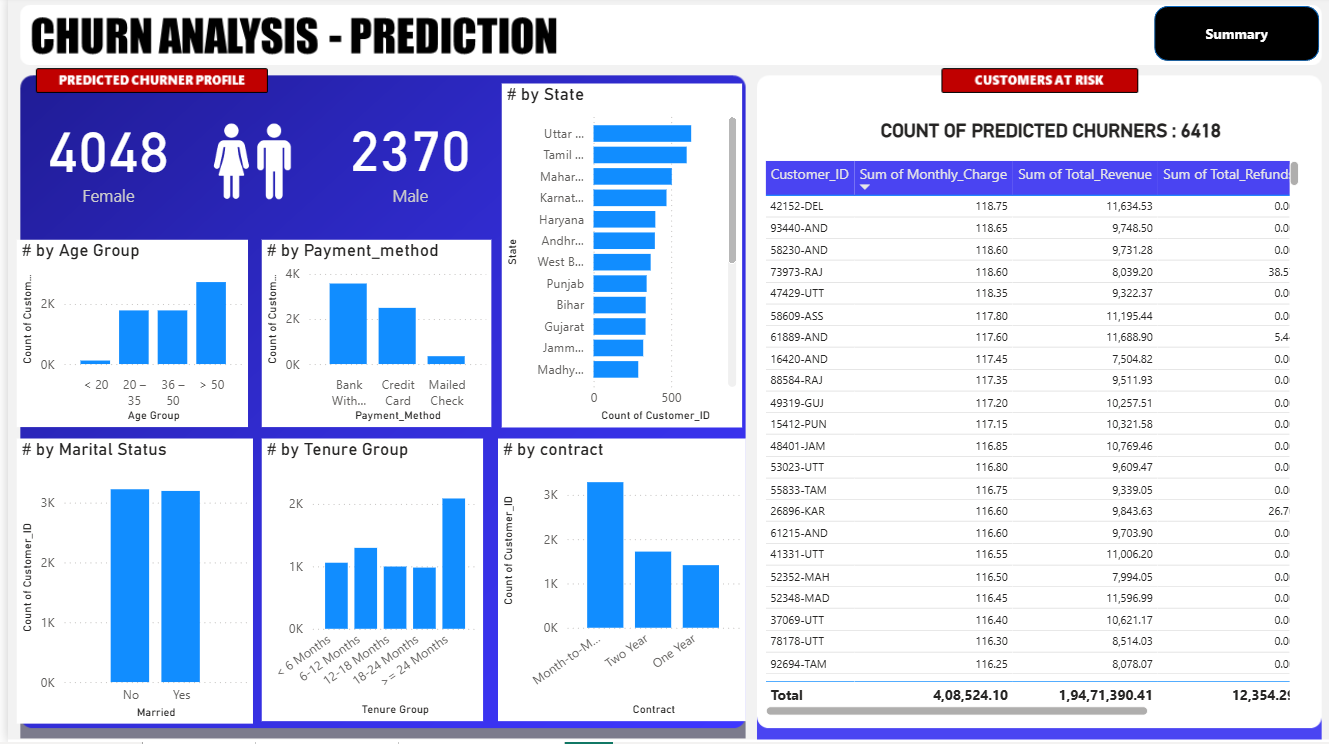

What the dashboard file says about the page in this screenshot:
{"tool":"powerbi","page":{"name":"Churn Prediction","canvas":[1280,720],"ordinal":2},"visuals":[{"type":"tableEx","fields":{"Values":["Final Prediction.Customer_ID","Sum(Final Prediction.Monthly_Charge)","Sum(Final Prediction.Total_Revenue)","Sum(Final Prediction.Total_Refunds)","Sum(Final Prediction.Number_of_Referrals)"]},"box":[725.1,154.4,526,545.3],"z":0},{"type":"card","fields":{"Values":["tbl_measures.Title Predicted Churners"]},"box":[827.6,106.2,358.3,48.3],"z":1},{"type":"card","fields":{"Values":["tbl_measures.Count Predicted Churner"]},"box":[22.9,89.3,148.4,130.3],"z":2},{"type":"card","fields":{"Values":["tbl_measures.Count Predicted Churner"]},"box":[310.1,89.3,156.8,129.1],"z":3},{"type":"clusteredColumnChart","title":"# by Age Group","fields":{"Category":["Mapping_AgeGrp.Age Group"],"Y":["CountNonNull(Final Prediction.Customer_ID)"]},"box":[8.4,235.3,223.2,181],"z":5},{"type":"clusteredColumnChart","title":"# by Marital Status","fields":{"Category":["Final Prediction.Married"],"Y":["CountNonNull(Final Prediction.Customer_ID)"]},"box":[8.4,427.1,228,275.1],"z":6},{"type":"clusteredColumnChart","title":"# by Tenure Group","fields":{"Category":["Mapping_TenGrp.Tenure Group"],"Y":["CountNonNull(Final Prediction.Customer_ID)"]},"box":[244.9,427.1,213.5,272.7],"z":7},{"type":"clusteredColumnChart","title":"# by Payment_method","fields":{"Category":["Final Prediction.Payment_Method"],"Y":["CountNonNull(Final Prediction.Customer_ID)"]},"box":[244.9,235.3,222,181],"z":8},{"type":"clusteredColumnChart","title":"# by contract","fields":{"Category":["Final Prediction.Contract"],"Y":["CountNonNull(Final Prediction.Customer_ID)"]},"box":[472.9,427.1,238.9,272.7],"z":9},{"type":"clusteredBarChart","title":"# by State","fields":{"Category":["Final Prediction.State"],"Y":["CountNonNull(Final Prediction.Customer_ID)"]},"box":[476.5,84.5,231.6,331.8],"z":10},{"type":"image","box":[184.6,106.2,102.5,105],"z":11},{"type":"shape","box":[1106.3,9.7,159.3,53.1],"z":12}]}

Visuals, with their boxes in screenshot pixels (x1, y1, x2, y2), scaled from the page's 1280x720 canvas onto the 1329x744 screenshot:
tableEx - Final Prediction.Customer_ID x Sum(Final Prediction.Monthly_Charge): select_region(753, 160, 1299, 723)
card - tbl_measures.Title Predicted Churners: select_region(859, 110, 1231, 160)
card - tbl_measures.Count Predicted Churner: select_region(24, 92, 178, 227)
card - tbl_measures.Count Predicted Churner: select_region(322, 92, 485, 226)
"# by Age Group" clusteredColumnChart: select_region(9, 243, 240, 430)
"# by Marital Status" clusteredColumnChart: select_region(9, 441, 245, 726)
"# by Tenure Group" clusteredColumnChart: select_region(254, 441, 476, 723)
"# by Payment_method" clusteredColumnChart: select_region(254, 243, 485, 430)
"# by contract" clusteredColumnChart: select_region(491, 441, 739, 723)
"# by State" clusteredBarChart: select_region(495, 87, 735, 430)
image: select_region(192, 110, 298, 218)
shape: select_region(1149, 10, 1314, 65)
